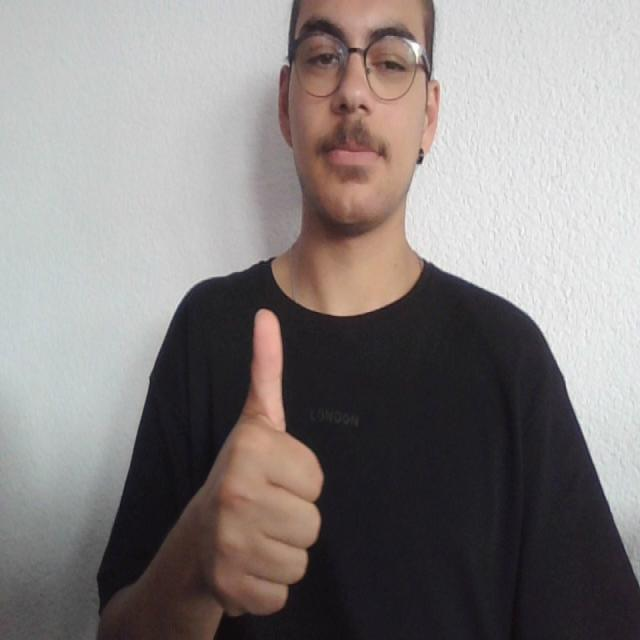Tamam: (184, 304, 328, 629)
